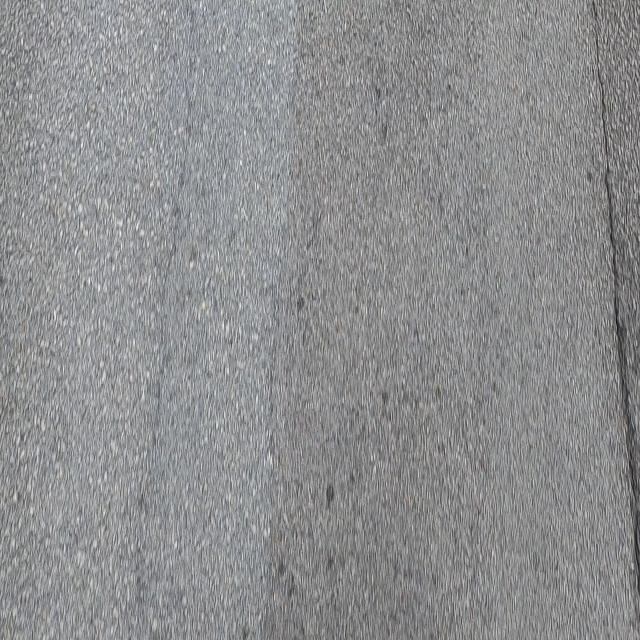Retak-Memanjang: (587, 0, 640, 602)
